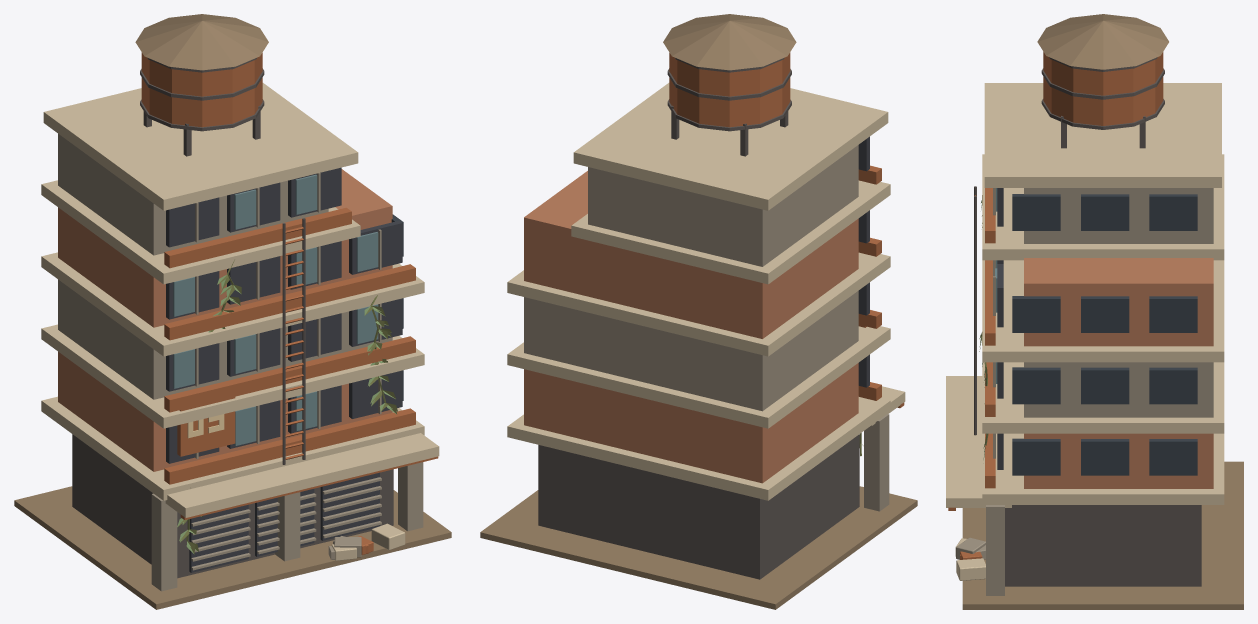
3 views of the same model, side by side, from view 1: azimuth 30°, elevation 25°; view 2: azimuth 150°, elevation 25°; view 3: azimuth 270°, elevation 25° (orthographic).
Parts seen in each view (by area): view 1: Masonry, Podium, Water tank, Service details, Loose masonry; view 2: Masonry, Podium, Water tank; view 3: Masonry, Podium, Water tank, Loose masonry, Service details.
Boxes of the visible parts, <box> form: Masonry: <box>41,133,424,500</box>; Podium: <box>14,433,451,609</box>; Water tank: <box>43,14,358,210</box>; Service details: <box>177,218,397,554</box>; Loose masonry: <box>328,523,405,560</box>; Masonry: <box>507,136,890,500</box>; Podium: <box>480,386,917,609</box>; Water tank: <box>573,14,888,210</box>; Masonry: <box>982,154,1224,504</box>; Podium: <box>946,376,1243,609</box>; Water tank: <box>984,14,1221,187</box>; Loose masonry: <box>955,537,985,580</box>; Service details: <box>974,186,988,459</box>.
Size of the model in its own units: 12 by 19.75 by 10.59.
